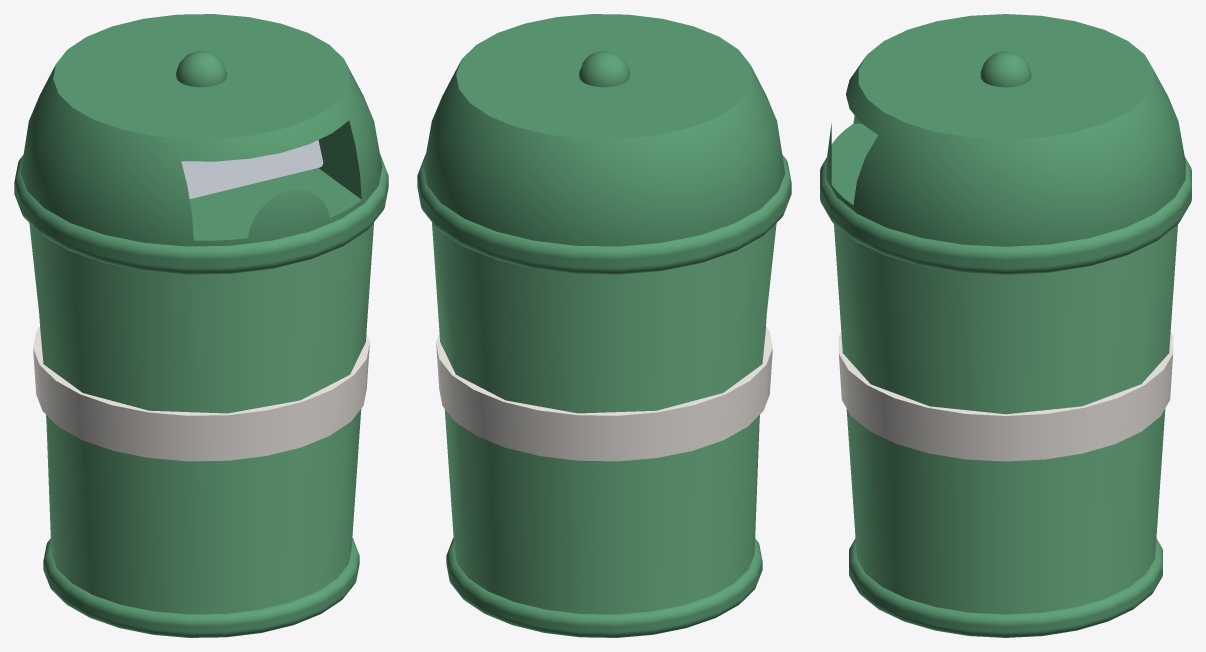
The model's file is TrashBin.glb.
3 views of the same model, side by side, from view 1: azimuth 30°, elevation 25°; view 2: azimuth 150°, elevation 25°; view 3: azimuth 270°, elevation 25° (orthographic).
Parts seen in each view (by area): view 1: trashBody, trashLid (×4), awningWhite, metalLight; view 2: trashBody, trashLid (×4), awningWhite; view 3: trashBody, trashLid (×4), awningWhite.
Boxes of the visible parts, left/top/right/bottom form: trashBody: left=29, top=222, right=373, bottom=614; trashLid (×4): left=14, top=14, right=388, bottom=637; awningWhite: left=33, top=326, right=369, bottom=461; metalLight: left=181, top=140, right=323, bottom=198; trashBody: left=432, top=222, right=776, bottom=614; trashLid (×4): left=417, top=14, right=791, bottom=637; awningWhite: left=436, top=326, right=772, bottom=461; trashBody: left=834, top=224, right=1177, bottom=614; trashLid (×4): left=820, top=14, right=1191, bottom=637; awningWhite: left=838, top=332, right=1173, bottom=461.
Size of the model in its own units: 0.58 by 0.89 by 0.5758.
